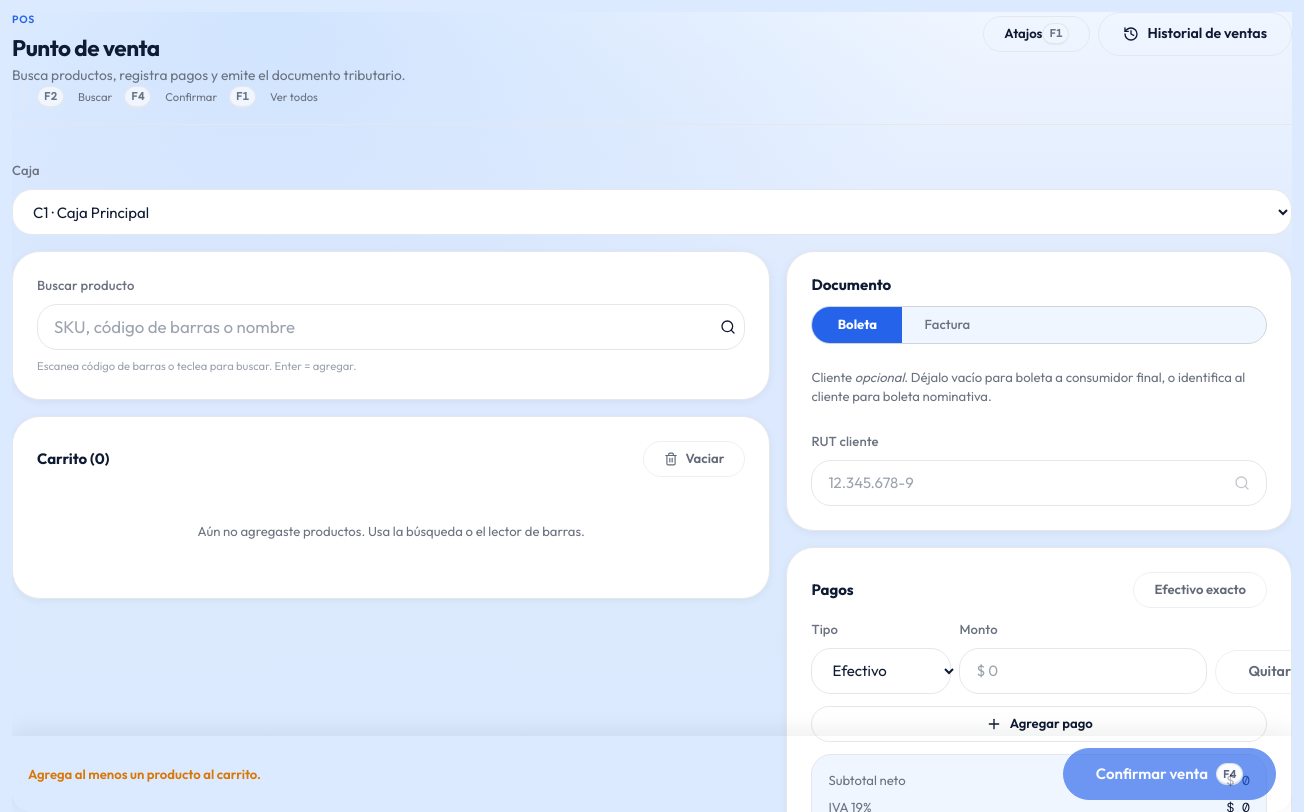
Scenario: PosPage › agrega 'efectivo exacto' iguala pagado al total y cuadra
The width and height of the screenshot is (1304, 812).
Type "leche" into the field with placeholder "SKU, código de barras o nombre" at (379, 327), box [38, 305, 720, 349]
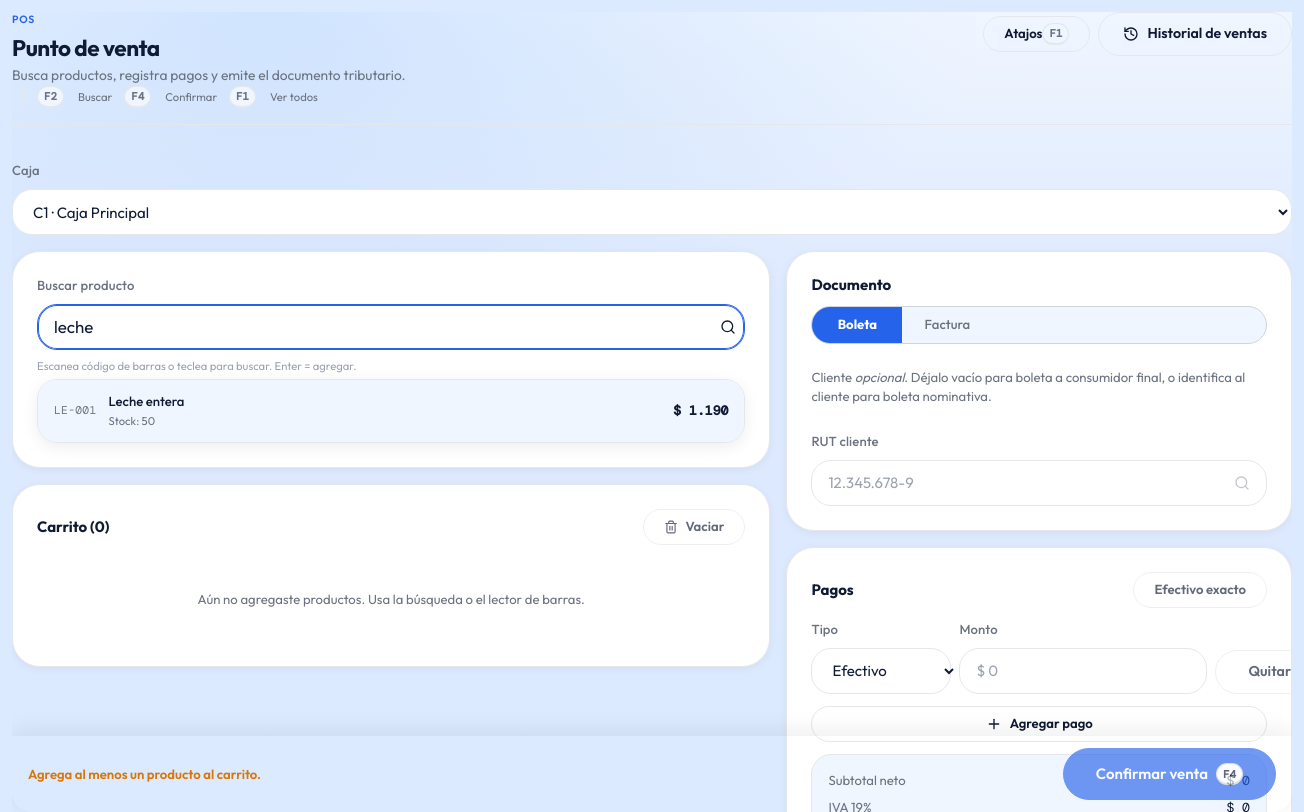
Click the text "Leche entera" at (146, 401), box [108, 393, 184, 409]
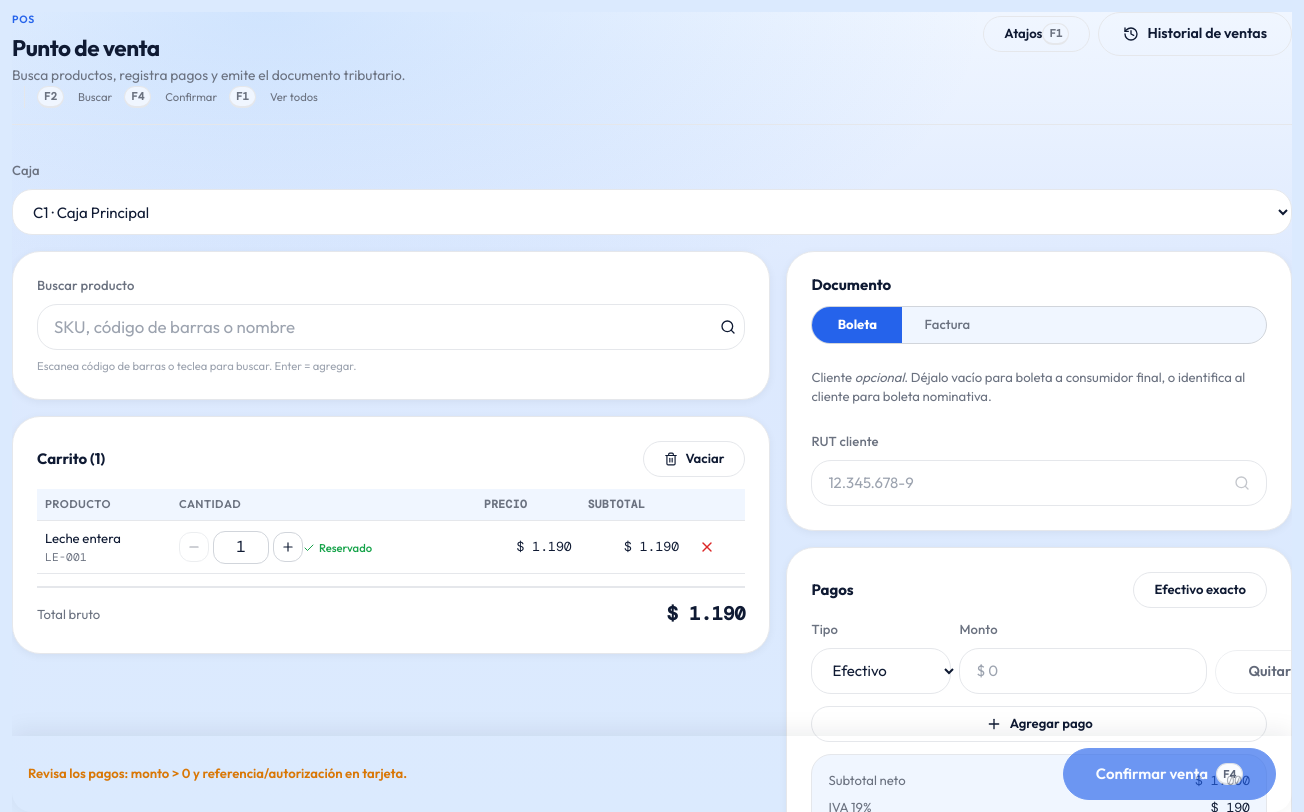
Click the button "Efectivo exacto" at (1200, 590), box [1133, 572, 1267, 608]
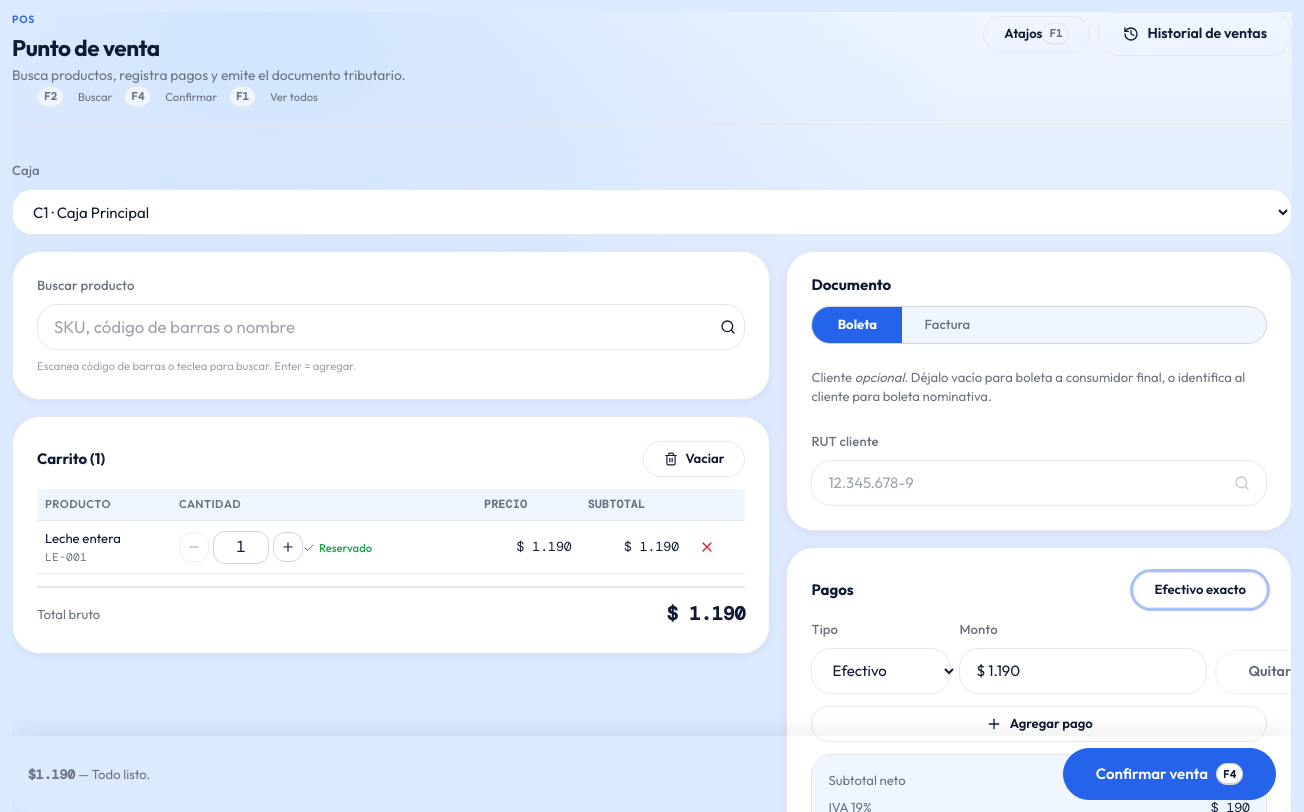
Check: the button "Confirmar venta F4" is enabled, box [1063, 748, 1276, 800]
